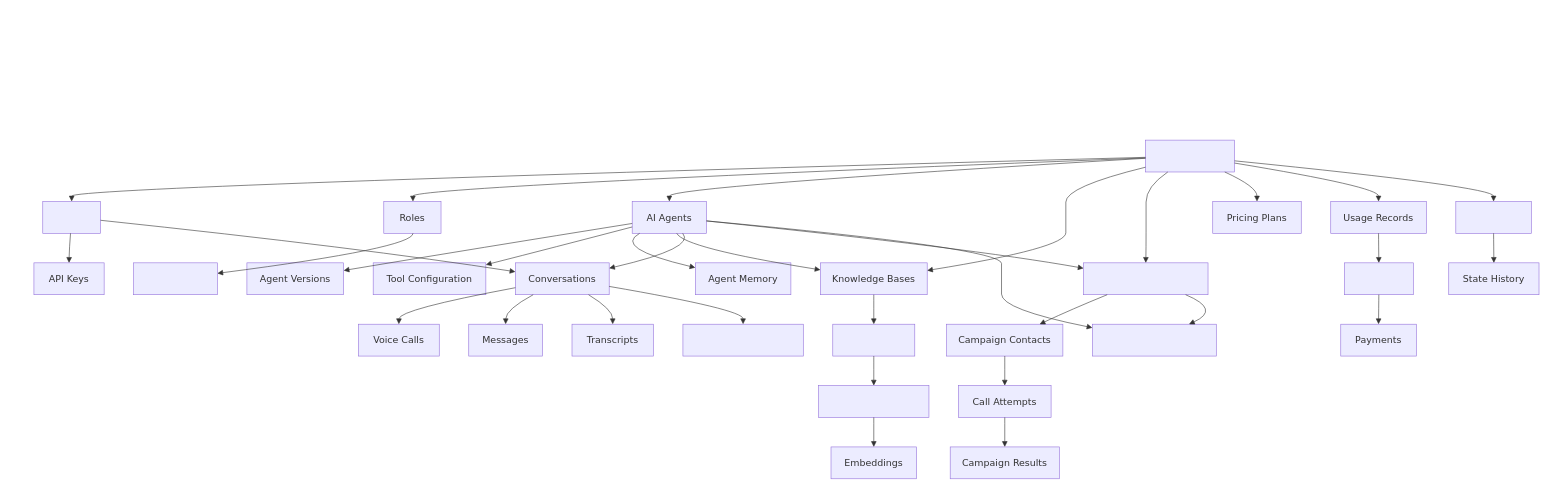
This 1549x489 diagram has some shape labels left out. Each missing label, with the centre of its shape:
Audit Log: [1493,217]
Conversation Events: [742,340]
Document Chunks: [873,401]
Documents: [873,340]
External Integrations: [1154,340]
Invoices: [1378,278]
Organization: [1190,156]
Outbound Campaigns: [1145,278]
Permissions: [175,278]
Users: [71,217]
